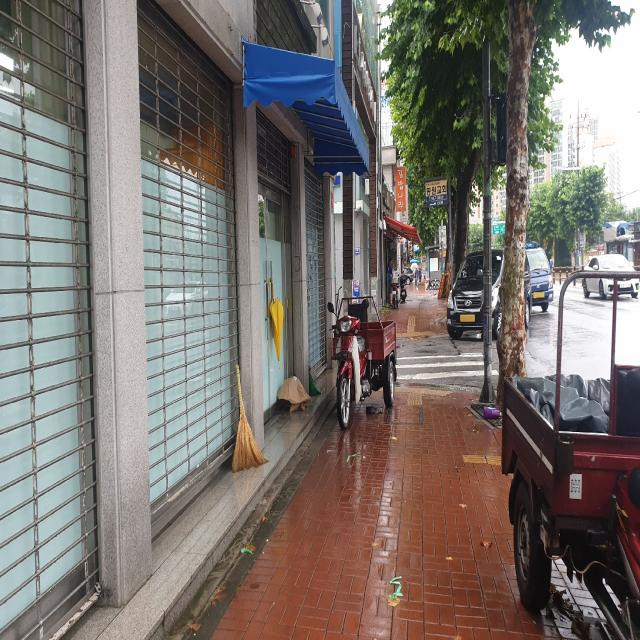car: (447, 248, 530, 344), (582, 253, 640, 299), (526, 243, 554, 313)
motorbike: (503, 273, 640, 640), (329, 296, 398, 426)
